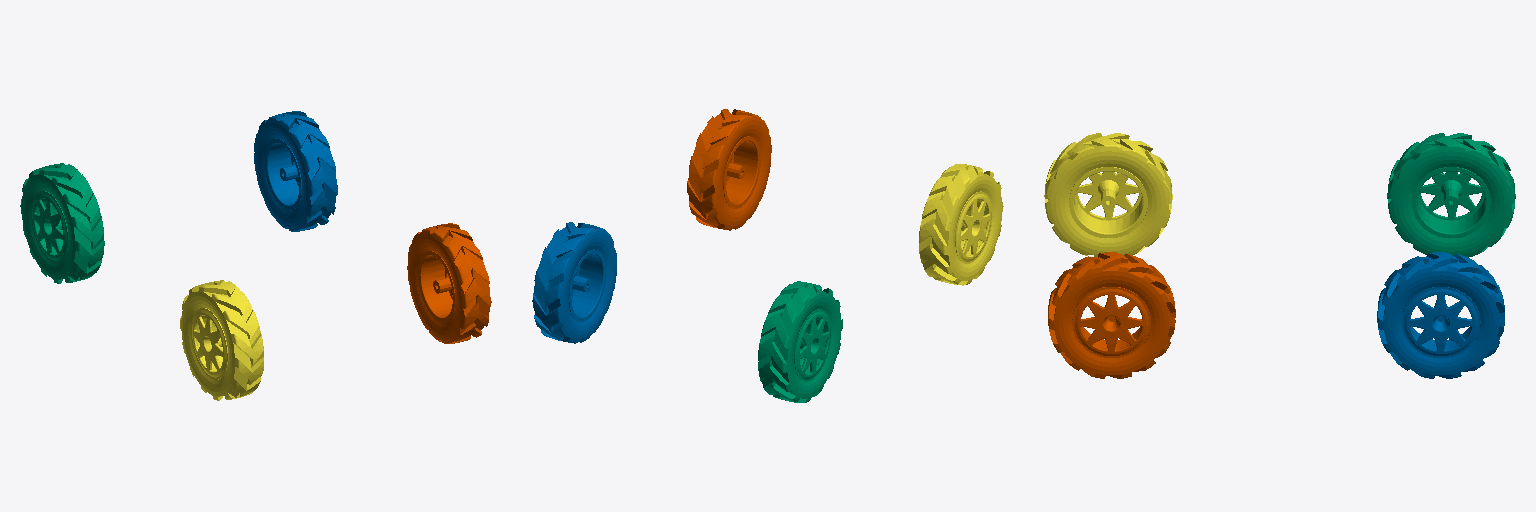
robot.urdf — mecanum_wheeled_robot:
<?xml version="1.0" ?>
<robot name="mecanum_wheeled_robot" >
  <!-- Wheels -->
  <!-- in kg-->
  <!-- Defining the colors used in this robot -->
  <material name="Black">
    <color rgba="0.0 0.0 0.0 1.0"/>
  </material>
  <material name="Red">
    <color rgba="0.8 0.0 0.0 1.0"/>
  </material>
  <material name="White">
    <color rgba="1.0 1.0 1.0 1.0"/>
  </material>
  <material name="Blue">
    <color rgba="0.0 0.0 0.8 1.0"/>
  </material>
  <material name="base">
   <texture filename="package://thedush_robots/texture/texture5.jpg"/>
  </material>
   <material name="Wheels1">
   <texture filename="package://thedush_robots/texture/texture2.png"/>
  </material>
  <!-- PROPERTY LIST -->
  <!--All units in m-kg-s-radians unit system -->
  <!-- Main body radius and height -->
  <!-- Main Body Cylinder base   -->
  <!-- in kg-->
  <!-- caster wheel radius and height -->
  <!-- caster wheel mass -->
  <!-- in kg-->
  <!-- caster wheel radius and height -->
  <!-- caster wheel mass -->
  <!-- in kg-->
  <!-- Wheels -->
 
 
  <!-- in kg-->
  <!-- Hokuyo Laser scanner -->
  <!-- Macro for calculating inertia of cylinder -->
  <!-- BASE-FOOTPRINT -->
  <!-- base_footprint is a fictitious link(frame) that is on the ground right below base_link origin -->
  <link name="base_footprint">
    <inertial>
      <mass value="0.0001"/>
      <origin xyz="0 0 0"/>
      <inertia ixx="0.0001" ixy="0.0" ixz="0.0" iyy="0.0001" iyz="0.0" izz="0.0001"/>
    </inertial>
    <visual>
      <origin rpy="0 0 0" xyz="0 0 0"/>
      <geometry>
        <box size="0.001 0.001 0.001"/>
      </geometry>
    </visual>
  </link>
  <gazebo reference="base_footprint">
    <turnGravityOff>false</turnGravityOff>
  </gazebo>
  <joint name="base_footprint_joint" type="fixed">
    <origin rpy="0 0 0" xyz="0 0 0.04"/>
    <parent link="base_footprint"/>
    <child link="base_link"/>
  </joint>
  <!-- BASE-LINK -->
  <!--Actual body/chassis of the robot-->
  <link name="base_link">
    <inertial>
      <mass value="5"/>
      <origin xyz="0 0 0"/>
      <!--The 3x3 rotational inertia matrix. -->
      <inertia ixx="0.0282916666667" ixy="0" ixz="0" iyy="0.0282916666667" iyz="0" izz="0.05625"/>
    </inertial>
    <visual>
      <origin rpy="1.57079632679 0 0" xyz="0 0 0.03"/>
      <geometry>
       <mesh
          filename="package://thedush_robots/meshes/robot_case/mecanum_case.STL" />
      </geometry>
      <material name="base"/>
    </visual>
    <collision>
      <origin rpy="1.57079632679 0 0 " xyz="0 0 0.04"/>
      <geometry>
        <mesh
          filename="package://thedush_robots/meshes/robot_case/mecanum_case.STL" />
      </geometry>
    </collision>
  </link>
  <gazebo reference="base_link">
    <material>Gazebo/White</material>
    <turnGravityOff>false</turnGravityOff>
  </gazebo>
  <!--fb : front, back ; lr: left, right -->
  <link name="front_right_wheel">
    <visual>
      <origin rpy="1.57079632679 0  1.57079632679 " xyz="0 0 0"/>
      <geometry>
        <mesh
          filename="package://thedush_robots/meshes/wheels/track_wheel.STL" />
      </geometry>
      <material name="Wheels1"/>
    </visual>
    <collision>
      <origin rpy="1.57079632679 0 1.57079632679 " xyz="0 0 0"/>
      <geometry>
        <mesh
          filename="package://thedush_robots/meshes/wheels/track_wheel.STL"/>
      </geometry>
    </collision>
    <inertial>
      <mass value="2.5"/>
      <origin xyz="0 0 0"/>
      <inertia ixx="0.00108333333333" ixy="0" ixz="0" iyy="0.00108333333333" iyz="0" izz="0.002"/>
    </inertial>
  </link>



   <link name="back_right_wheel">
    <visual>
      <origin rpy="1.57079632679 0  1.57079632679 " xyz="0 0 0"/>
      <geometry>
        <mesh
          filename="package://thedush_robots/meshes/wheels/track_wheel.STL"/>
      </geometry>
      <material name="Wheels1"/>
    </visual>
    <collision>
      <origin rpy="1.57079632679 0 1.57079632679 " xyz="0 0 0"/>
      <geometry>
        <mesh
          filename="package://thedush_robots/meshes/wheels/track_wheel.STL" />
      </geometry>
    </collision>
    <inertial>
      <mass value="2.5"/>
      <origin xyz="0 0 0"/>
      <inertia ixx="0.00108333333333" ixy="0" ixz="0" iyy="0.00108333333333" iyz="0" izz="0.002"/>
    </inertial>
  </link>



  <gazebo reference="front_right_wheel">
    <mu1 value="1.0"/>
    <mu2 value="1.0"/>
    <kp value="10000000.0"/>
    <kd value="1.0"/>
    <fdir1 value="1 0 0"/>
    <material>Gazebo/Grey</material>
    <turnGravityOff>false</turnGravityOff>
  </gazebo>

 <gazebo reference="back_right_wheel">
    <mu1 value="1.0"/>
    <mu2 value="1.0"/>
    <kp value="10000000.0"/>
    <kd value="1.0"/>
    <fdir1 value="1 0 0"/>
    <material>Gazebo/Grey</material>
    <turnGravityOff>false</turnGravityOff>
  </gazebo>

  <joint name="front_right_wheel_joint" type="continuous">
    <parent link="base_link"/>
    <child link="front_right_wheel"/>
    <origin rpy="0 0 0" xyz="-0.028381026754975 0.00233097076 0.01"/>
    <axis rpy="0 0" xyz="1 0 0">
    </axis>
    <limit effort="100" velocity="100"/>
    <joint_properties damping="0.0" friction="0.0"/>
  </joint>


  <joint name="back_right_wheel_joint" type="continuous">
    <parent link="base_link"/>
    <child link="back_right_wheel"/>
    <origin rpy="0 0 0" xyz="-0.028381026754975 -0.318708338737 0.01"/>
    <axis rpy="0  0" xyz="1 0 0"/>
    <limit effort="100" velocity="100"/>
    <joint_properties damping="0.0" friction="0.0"/>
  </joint>

  <!-- Transmission is important to link the joints and the controller -->
  <transmission name="front_right_wheel_joint_trans">
    <type>transmission_interface/SimpleTransmission</type>
    <joint name="front_right_wheel_joint"/>
    <actuator name="front_right_wheel_joint_motor">
      <hardwareInterface>EffortJointInterface</hardwareInterface>
      <mechanicalReduction>1</mechanicalReduction>
    </actuator>
  </transmission>

 <transmission name="back_right_wheel_joint_trans">
    <type>transmission_interface/SimpleTransmission</type>
    <joint name="back_right_wheel_joint"/>
    <actuator name="back_right_wheel_joint_motor">
      <hardwareInterface>EffortJointInterface</hardwareInterface>
      <mechanicalReduction>1</mechanicalReduction>
    </actuator>
  </transmission>


  <!--fb : front, back ; lr: left, right -->
  <link name="front_left_wheel">
    <visual>
      <origin rpy="1.57079632679 0  -1.57079632679 " xyz="0 0 0"/>
      <geometry>
        <mesh
          filename="package://thedush_robots/meshes/wheels/track_wheel.STL" />
      </geometry>
      <material name="Wheels1"/>
    </visual>
    <collision>
      <origin rpy="1.57079632679 0 -1.57079632679 " xyz="0 0 0"/>
      <geometry>
        <mesh
          filename="package://thedush_robots/meshes/wheels/track_wheel.STL"/>
      </geometry>
    </collision>
    <inertial>
      <mass value="2.5"/>
      <origin xyz="0 0 0"/>
      <inertia ixx="0.00108333333333" ixy="0" ixz="0" iyy="0.00108333333333" iyz="0" izz="0.002"/>
    </inertial>
  </link>

   <link name="back_left_wheel">
    <visual>
      <origin rpy="1.57079632679 0  -1.57079632679 " xyz="0 0 0"/>
      <geometry>
        <mesh
          filename="package://thedush_robots/meshes/wheels/track_wheel.STL" />
      </geometry>
      <material name="Wheels1"/>
    </visual>
    <collision>
      <origin rpy="1.57079632679 0 -1.57079632679 " xyz="0 0 0"/>
      <geometry>
        <mesh
          filename="package://thedush_robots/meshes/wheels/track_wheel.STL" />
      </geometry>
    </collision>
    <inertial>
      <mass value="2.5"/>
      <origin xyz="0 0 0"/>
      <inertia ixx="0.00108333333333" ixy="0" ixz="0" iyy="0.00108333333333" iyz="0" izz="0.002"/>
    </inertial>
  </link>


  <gazebo reference="front_left_wheel">
    <mu1 value="1.0"/>
    <mu2 value="1.0"/>
    <kp value="10000000.0"/>
    <kd value="1.0"/>
    <fdir1 value="1 0 0"/>
    <material>Gazebo/Grey</material>
    <turnGravityOff>false</turnGravityOff>
  </gazebo>

  <gazebo reference="back_left_wheel">
    <mu1 value="1.0"/>
    <mu2 value="1.0"/>
    <kp value="10000000.0"/>
    <kd value="1.0"/>
    <fdir1 value="1 0 0"/>
    <material>Gazebo/Grey</material>
    <turnGravityOff>false</turnGravityOff>
  </gazebo>


  <joint name="front_left_wheel_joint" type="continuous">
    <parent link="base_link"/>
    <child link="front_left_wheel"/>
    <origin rpy="0 0 0" xyz="0.20695439024 -0.00733097076 0.01"/>
    <axis rpy="0  0" xyz="1 0 0"/>
    <limit effort="100" velocity="100"/>
    <joint_properties damping="0.0" friction="0.0"/>
  </joint>



  <joint name="back_left_wheel_joint" type="continuous">
    <parent link="base_link"/>
    <child link="back_left_wheel"/>
    <origin rpy="0 0 0" xyz="0.20695439024 -0.315708338737 0.01"/>
    <axis rpy="0  0" xyz="1 0 0"/>
    <limit effort="100" velocity="100"/>
    <joint_properties damping="0.0" friction="0.0"/>
  </joint>

  <!-- Transmission is important to link the joints and the controller -->
  <transmission name="front_left_wheel_joint_trans">
    <type>transmission_interface/SimpleTransmission</type>
    <joint name="front_left_wheel_joint"/>
    <actuator name="front_left_wheel_joint_motor">
      <hardwareInterface>EffortJointInterface</hardwareInterface>
      <mechanicalReduction>1</mechanicalReduction>
    </actuator>
  </transmission>



    <transmission name="back_left_wheel_joint_trans">
    <type>transmission_interface/SimpleTransmission</type>
    <joint name="back_left_wheel_joint"/>
    <actuator name="back_left_wheel_joint_motor">
      <hardwareInterface>EffortJointInterface</hardwareInterface>
      <mechanicalReduction>1</mechanicalReduction>
    </actuator>
  </transmission>

  
 


 
  <link name="hokuyo_link">
    <visual>
      <origin rpy="0 0 -1.57079632679" xyz="0 0 0"/>
      <geometry>
        <mesh
          filename="package://thedush_robots/meshes/sensors/xtion_pro_live.dae"/>
    
       <!--  <box size="0.05 0.05 0.05"/> -->
      </geometry>
      <material name="Blue"/>
    </visual>
  </link>
  <joint name="hokuyo_joint" type="fixed">
    <origin rpy="0 0 0" xyz="0.0926225844026 -0.3192884281278 0.129905364513"/>
    <parent link="base_link"/>
    <child link="hokuyo_link"/>
  </joint>
  <gazebo reference="hokuyo_link">
    <material>Gazebo/Grey</material>
    <turnGravityOff>false</turnGravityOff>
    <sensor name="head_hokuyo_sensor" type="ray">
      <pose>0.025 0 0 0 0 0</pose>
      <visualize>false</visualize>
      <update_rate>40</update_rate>
      <ray>
        <scan>
          <horizontal>
            <samples>720</samples>
            <resolution>1</resolution>
            <min_angle>-1.570796</min_angle>
            <max_angle>1.570796</max_angle>
          </horizontal>
        </scan>
        <range>
          <min>0.10</min>
          <max>10.0</max>
          <resolution>0.001</resolution>
        </range>
      </ray>
      <plugin filename="libgazebo_ros_laser.so" name="gazebo_ros_head_hokuyo_controller">
        <topicName>/scan</topicName>
        <frameName>hokuyo_link</frameName>
      </plugin>
    </sensor>
  </gazebo>


<gazebo>
<plugin name="skid_steer_drive_controller" filename="libgazebo_ros_skid_steer_drive.so">
      <!--<robotNamespace>/summit_xl</robotNamespace>-->
        <updateRate>100.0</updateRate>
        <leftFrontJoint>front_left_wheel_joint</leftFrontJoint>  
        <rightFrontJoint>front_right_wheel_joint</rightFrontJoint>
        <leftRearJoint>back_left_wheel_joint</leftRearJoint>
        <rightRearJoint>back_right_wheel_joint</rightRearJoint>
        <wheelSeparation>0.26</wheelSeparation> <!-- real parameter value -->
        <wheelSeparation>1.5</wheelSeparation> <!-- works a bit better in Gazebo -->
        <wheelDiameter>0.234</wheelDiameter>
        <robotBaseFrame>base_footprint</robotBaseFrame>
        <torque>50</torque>
        <commandTopic>cmd_vel</commandTopic>
        <odometryTopic>odom</odometryTopic>
        <!--odometryFrame>/odom</odometryFrame-->
        <odometryFrame>odom</odometryFrame>
        <broadcastTF>1</broadcastTF>
      </plugin>
   </gazebo>
</robot>

--- Facts derived from the render (not from the file) ---
The picture shows the robot from 3 angles, left to right: view 1: azimuth 30°, elevation 25°; view 2: azimuth 150°, elevation 25°; view 3: azimuth 270°, elevation 25°; orthographic projection.
Robot: mecanum_wheeled_robot — 7 links, 6 joints (4 continuous, 2 fixed); root link base_footprint; default pose: every joint at zero.
Links seen in each view (by area): view 1: front_left_wheel, back_right_wheel, back_left_wheel, front_right_wheel; view 2: front_right_wheel, back_left_wheel, front_left_wheel, back_right_wheel; view 3: front_left_wheel, back_left_wheel, front_right_wheel, back_right_wheel.
Link boxes in pixels (x1,y1,x2,y2): front_left_wheel: (254, 111, 337, 231); back_right_wheel: (180, 280, 263, 400); back_left_wheel: (407, 223, 491, 343); front_right_wheel: (20, 163, 104, 283); front_right_wheel: (758, 281, 842, 402); back_left_wheel: (687, 109, 771, 230); front_left_wheel: (532, 222, 616, 343); back_right_wheel: (919, 164, 1003, 285); front_left_wheel: (1377, 252, 1504, 378); back_left_wheel: (1048, 252, 1175, 378); front_right_wheel: (1387, 133, 1515, 257); back_right_wheel: (1044, 133, 1172, 256).
Bounding box of the posed robot: 0.2997 × 0.441 × 0.12 m (x, y, z).
4 mesh visuals loaded from 3 distinct referenced files (1 binary STL); not drawn: 2 (reference not matched to a file when rendering).
